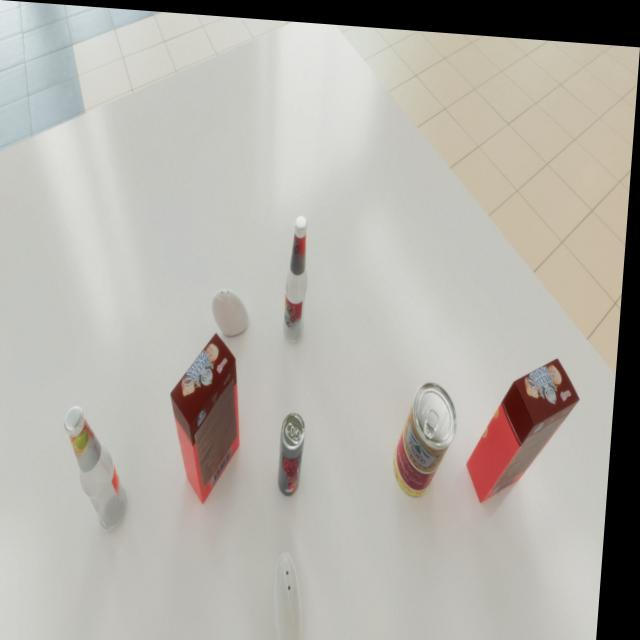Bottle: (65, 404, 141, 530), (286, 211, 316, 339)
HelloPanda: (471, 345, 588, 501), (170, 327, 252, 503)
Potato_sticks: (398, 373, 465, 493)
Rita_zero_sugar: (283, 407, 312, 492)
Salt: (279, 546, 316, 640), (214, 284, 255, 333)
